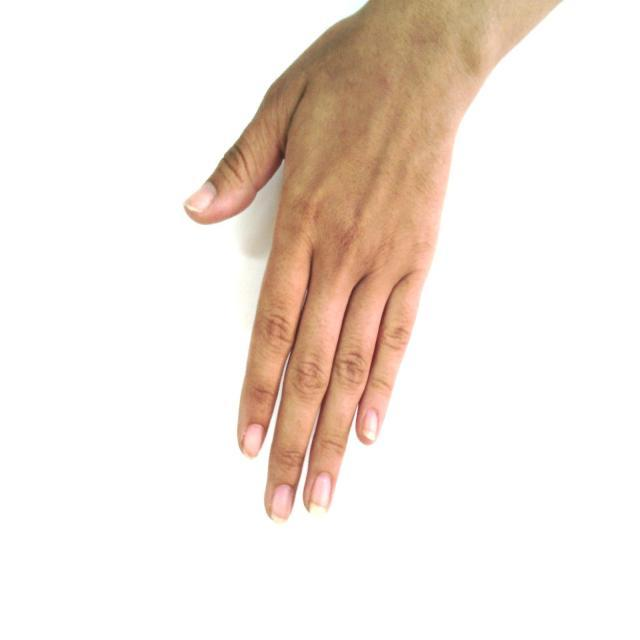Fingernail: (185, 182, 216, 213), (308, 473, 330, 515), (272, 485, 292, 523), (244, 424, 264, 458), (363, 409, 377, 440)
